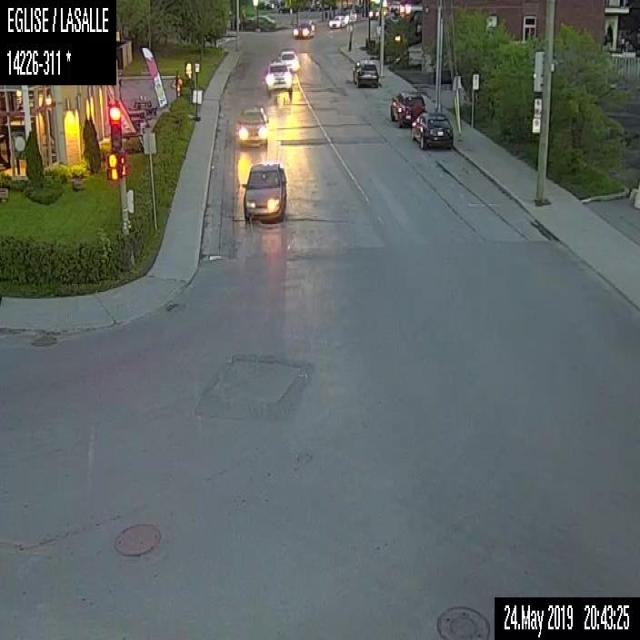vehicle: (240, 162, 287, 222), (410, 110, 453, 150), (233, 104, 267, 147), (388, 88, 424, 125), (261, 60, 291, 96), (351, 57, 378, 88), (244, 13, 275, 31), (279, 48, 299, 70), (291, 19, 310, 37), (328, 14, 344, 28)
